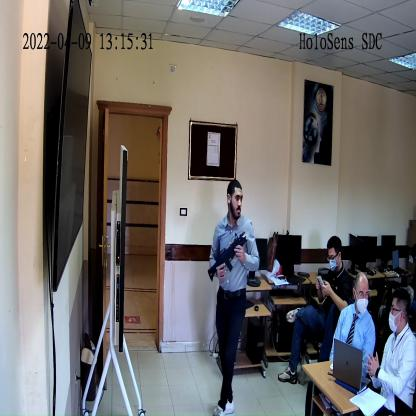handgun: (208, 232, 245, 284)
